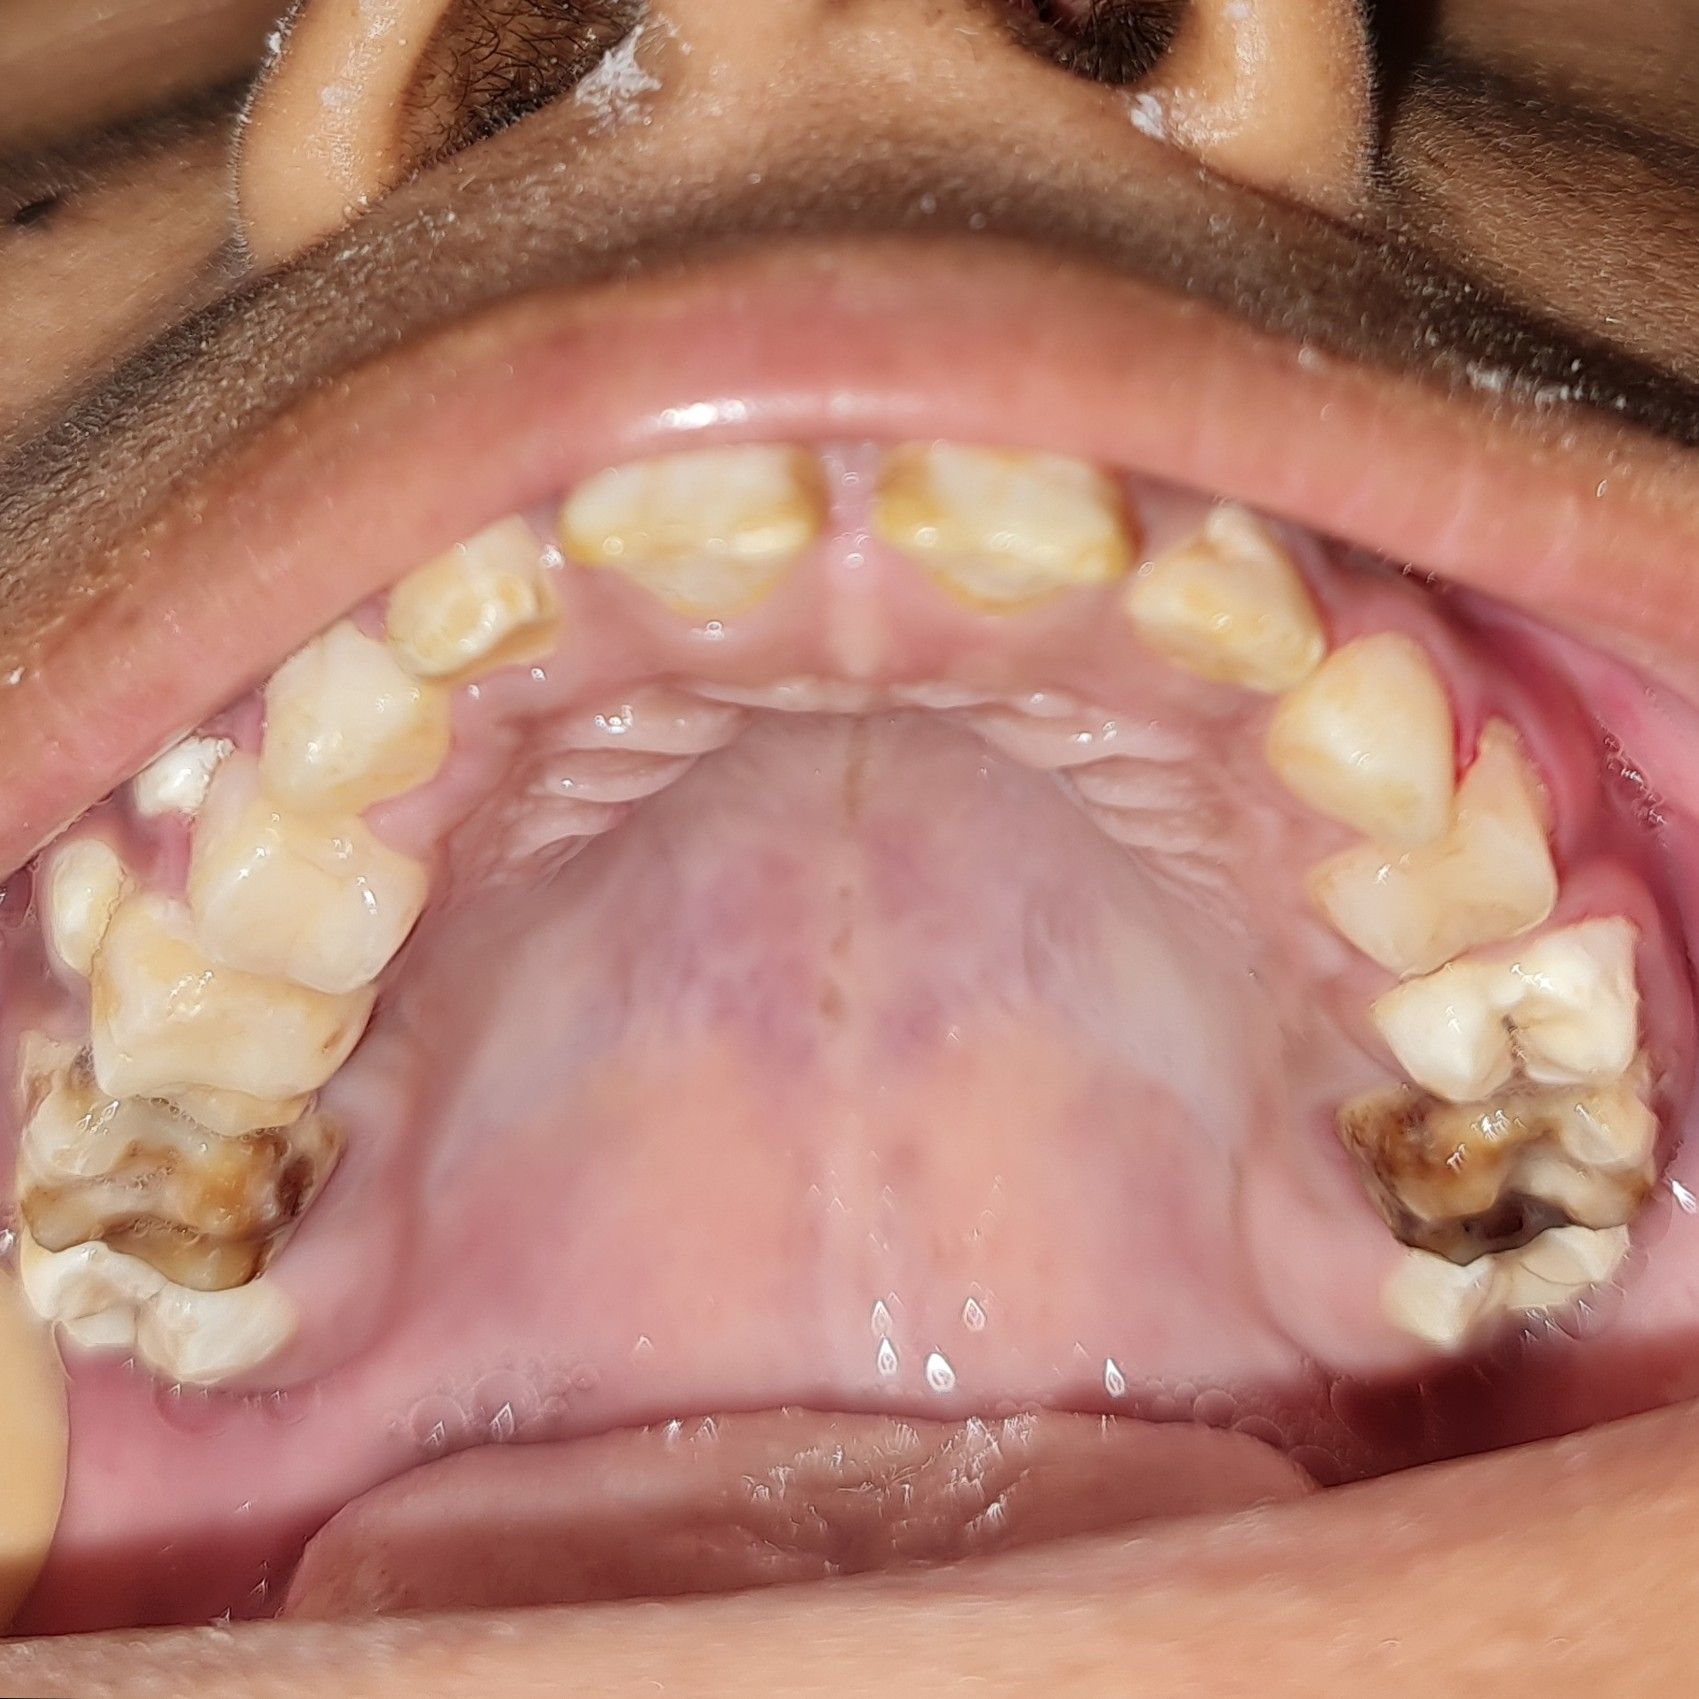D: (20, 1087, 347, 1299), (1339, 1086, 1676, 1264), (1374, 936, 1651, 1097)
